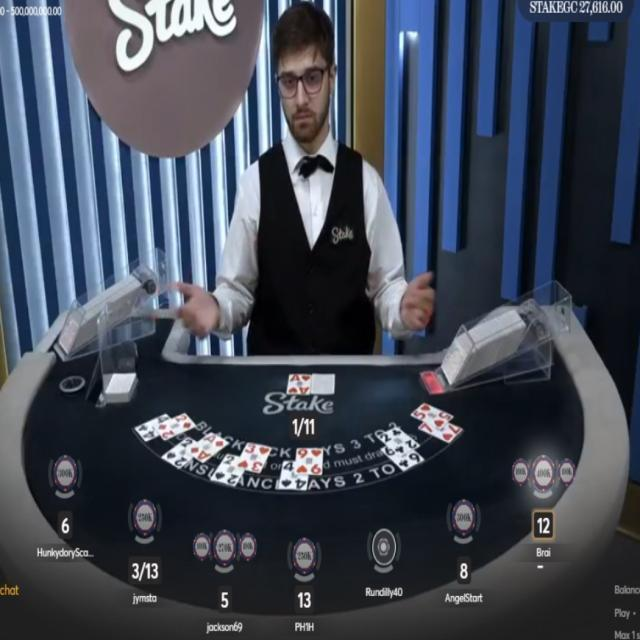Card-2: (377, 424, 419, 454), (210, 453, 245, 487), (162, 435, 197, 468), (157, 411, 195, 440)
Card-3: (236, 442, 271, 474)
Card-4: (134, 410, 170, 442), (278, 460, 309, 490)
Card-5: (411, 402, 453, 426)
Card-6: (381, 444, 424, 470)
Card-7: (418, 420, 462, 443)
Card-9: (297, 447, 323, 473)
Card-A: (189, 431, 228, 465), (286, 372, 312, 394)
